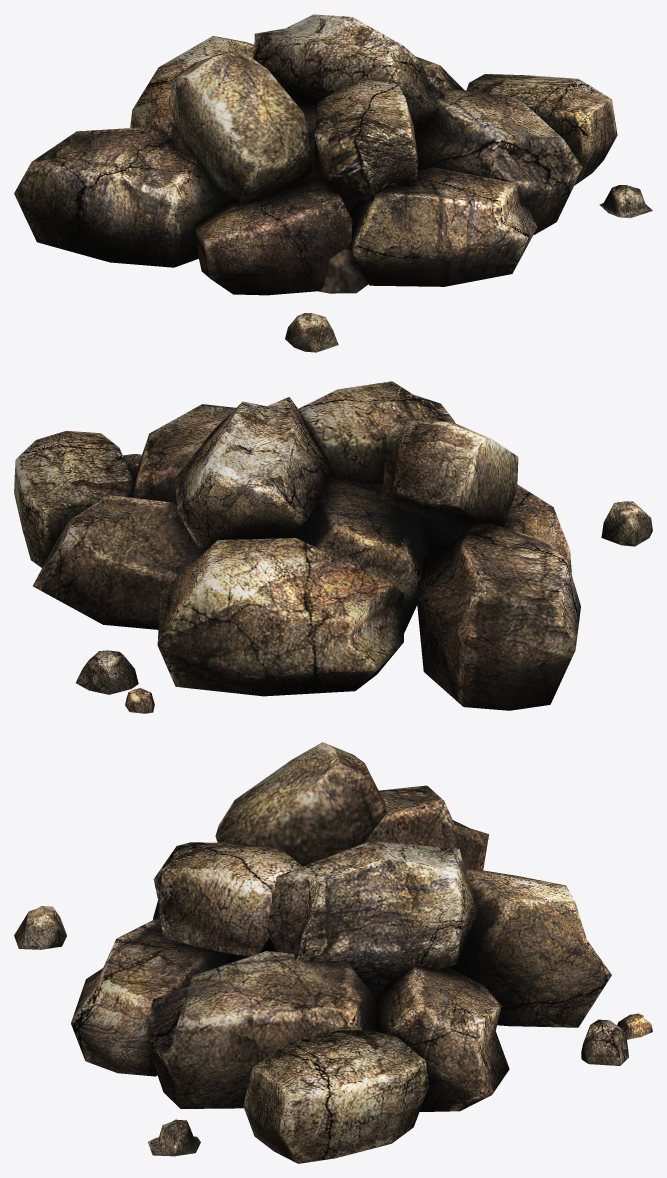
File: rock_007.obj
3 views of the same model, one above another, from view 1: azimuth 30°, elevation 25°; view 2: azimuth 150°, elevation 25°; view 3: azimuth 270°, elevation 25° (orthographic). The views are drawn at different scales.
Parts seen in each view (by area): view 1: rock_007 rock_007; view 2: rock_007 rock_007; view 3: rock_007 rock_007.
Boxes of the visible parts, bbox=[...] form: rock_007 rock_007: bbox=[14, 14, 652, 352]; rock_007 rock_007: bbox=[14, 381, 652, 713]; rock_007 rock_007: bbox=[14, 742, 652, 1163].
Bounding box in the file's own units: 722 × 235 × 654.
Materials: 1 (1 with a texture image).
